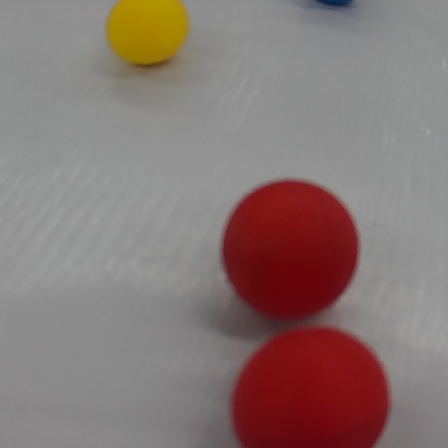red: (221, 178, 360, 323), (229, 326, 391, 448)
yellow: (104, 0, 192, 66)
